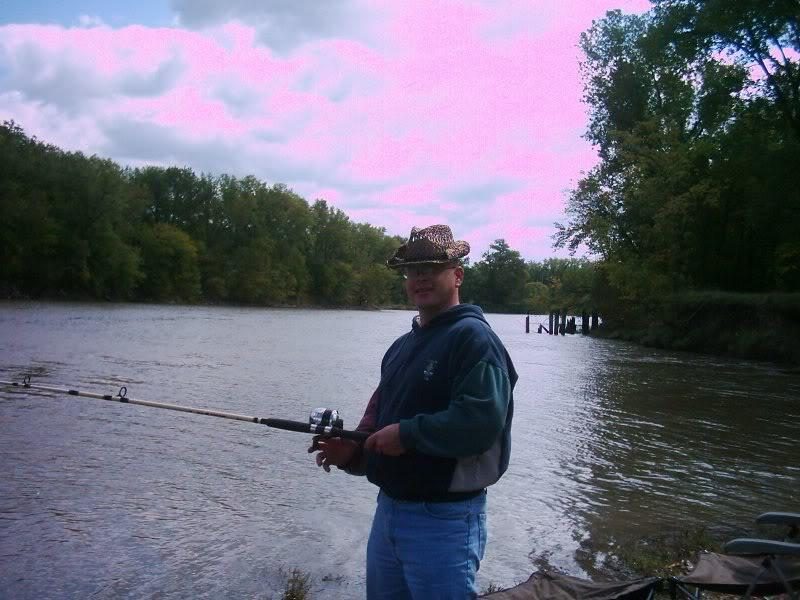person: (311, 224, 518, 600)
